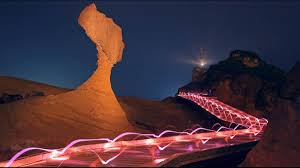yehliu: (71, 1, 143, 67)
